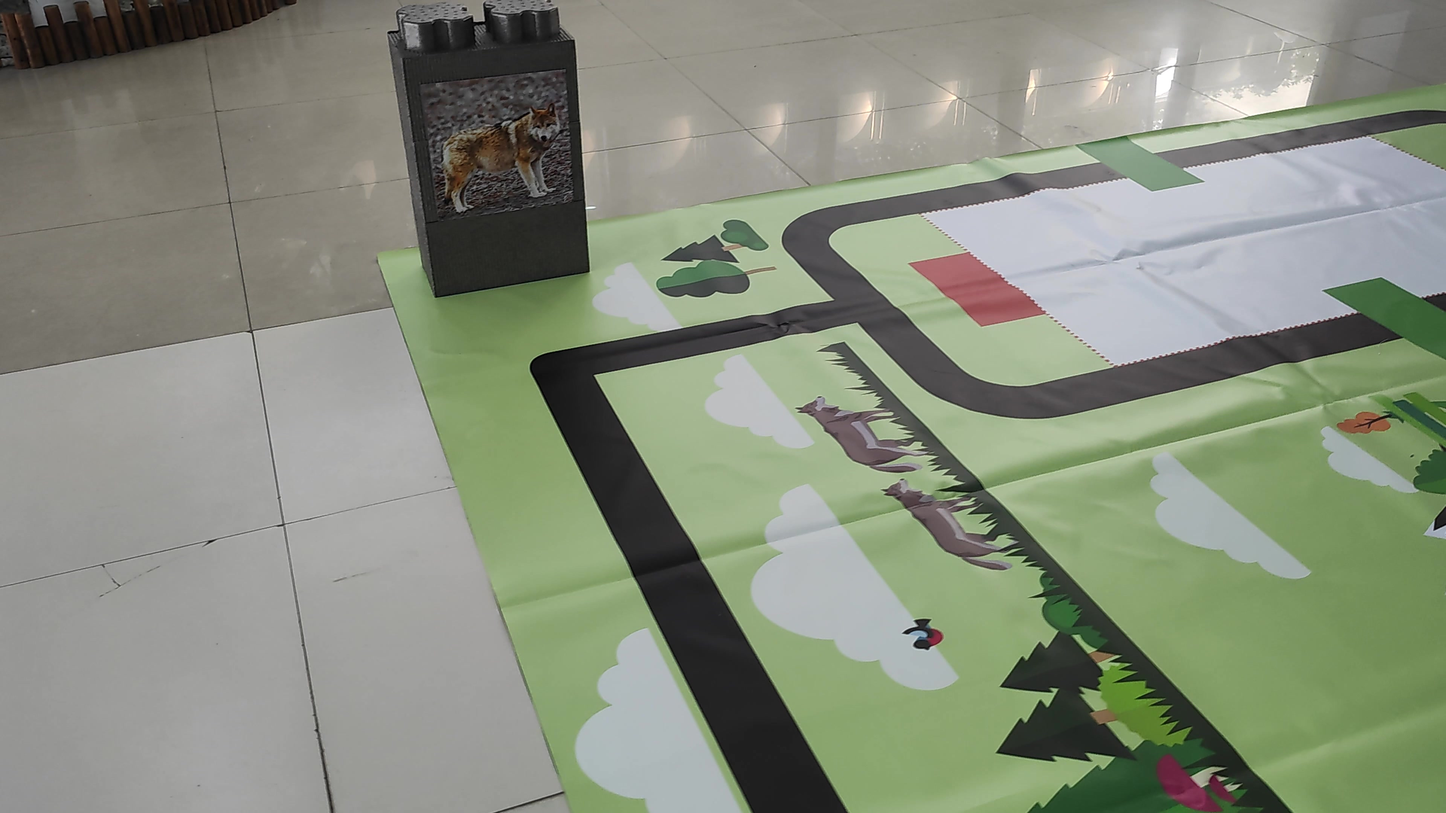wolf: (426, 69, 551, 215)
